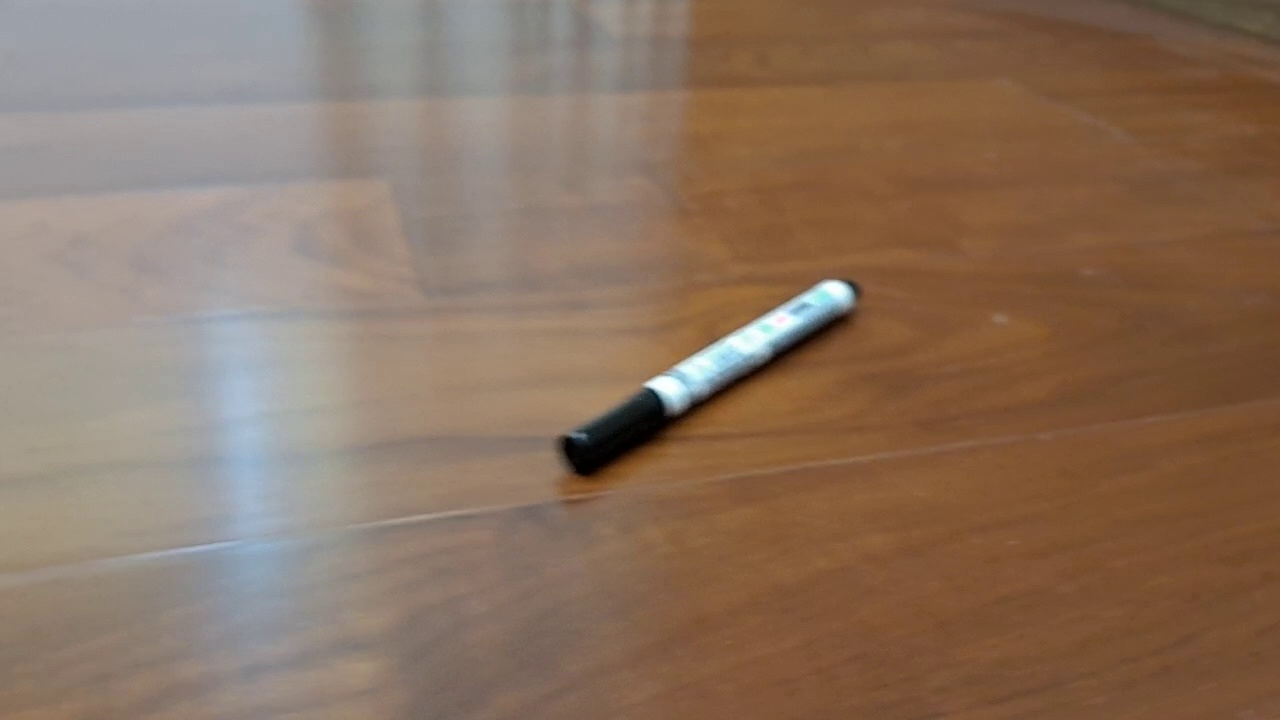pen: (561, 277, 860, 477)
